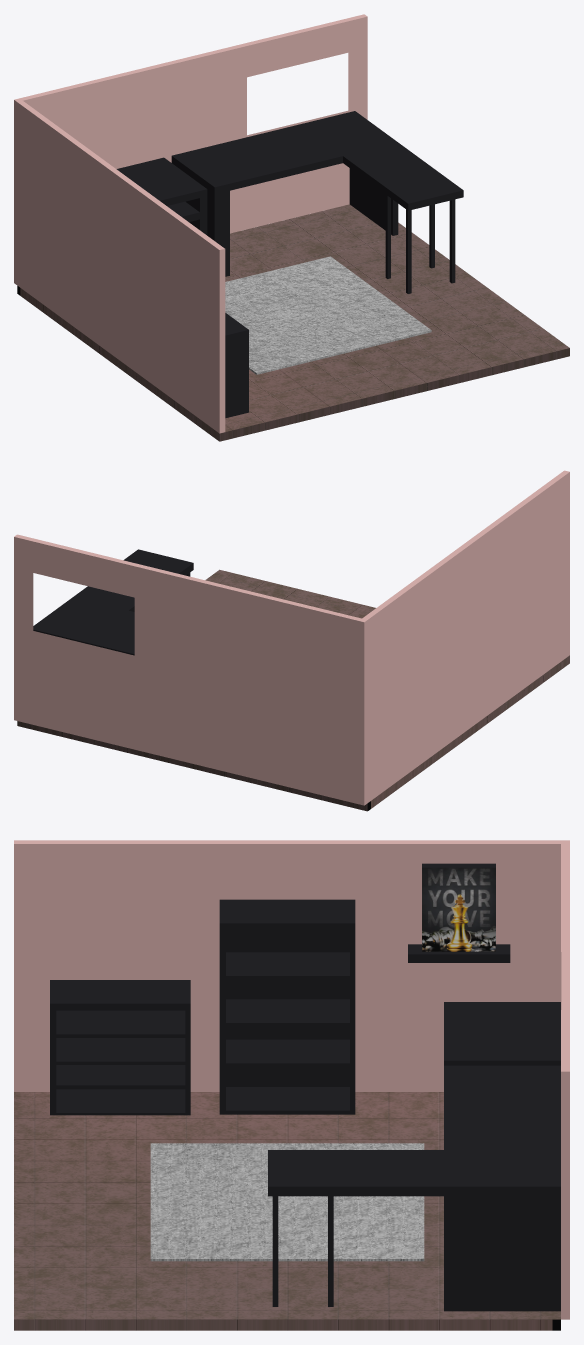
The model's file is HorribleRoom.glb.
3 views of the same model, one above another, from view 1: azimuth 30°, elevation 25°; view 2: azimuth 150°, elevation 25°; view 3: azimuth 270°, elevation 25° (orthographic). The views are drawn at different scales.
Visible parts, largest first — view 1: SideWall, Floor, FrontWall, Desk, Carpet, SideDesk, Drawers; view 2: FrontWall, SideWall, Floor, Desk; view 3: SideWall, Floor, Desk, BookShelf, Carpet, Drawers, SideDesk, ChessPoster, FrontWall, PosterStand.
Part boxes in pixels (<box>): SideWall: <box>17,101,225,433</box>; Floor: <box>17,204,569,441</box>; FrontWall: <box>14,14,367,284</box>; Desk: <box>171,111,463,293</box>; Carpet: <box>225,256,431,374</box>; SideDesk: <box>116,157,207,235</box>; Drawers: <box>225,313,248,418</box>; FrontWall: <box>14,534,367,805</box>; SideWall: <box>362,470,569,802</box>; Floor: <box>17,569,569,811</box>; Desk: <box>33,549,193,655</box>; SideWall: <box>14,840,560,1091</box>; Floor: <box>14,1092,560,1330</box>; Desk: <box>268,1065,560,1311</box>; BookShelf: <box>219,899,355,1114</box>; Carpet: <box>150,1143,424,1261</box>; Drawers: <box>50,980,190,1115</box>; SideDesk: <box>444,1002,560,1065</box>; ChessPoster: <box>422,863,495,951</box>; FrontWall: <box>561,840,569,1319</box>; PosterStand: <box>408,944,510,962</box>.
Size of the model in its own units: 4 by 2.09 by 4.07.
Materials: 5 (3 with a texture image).
